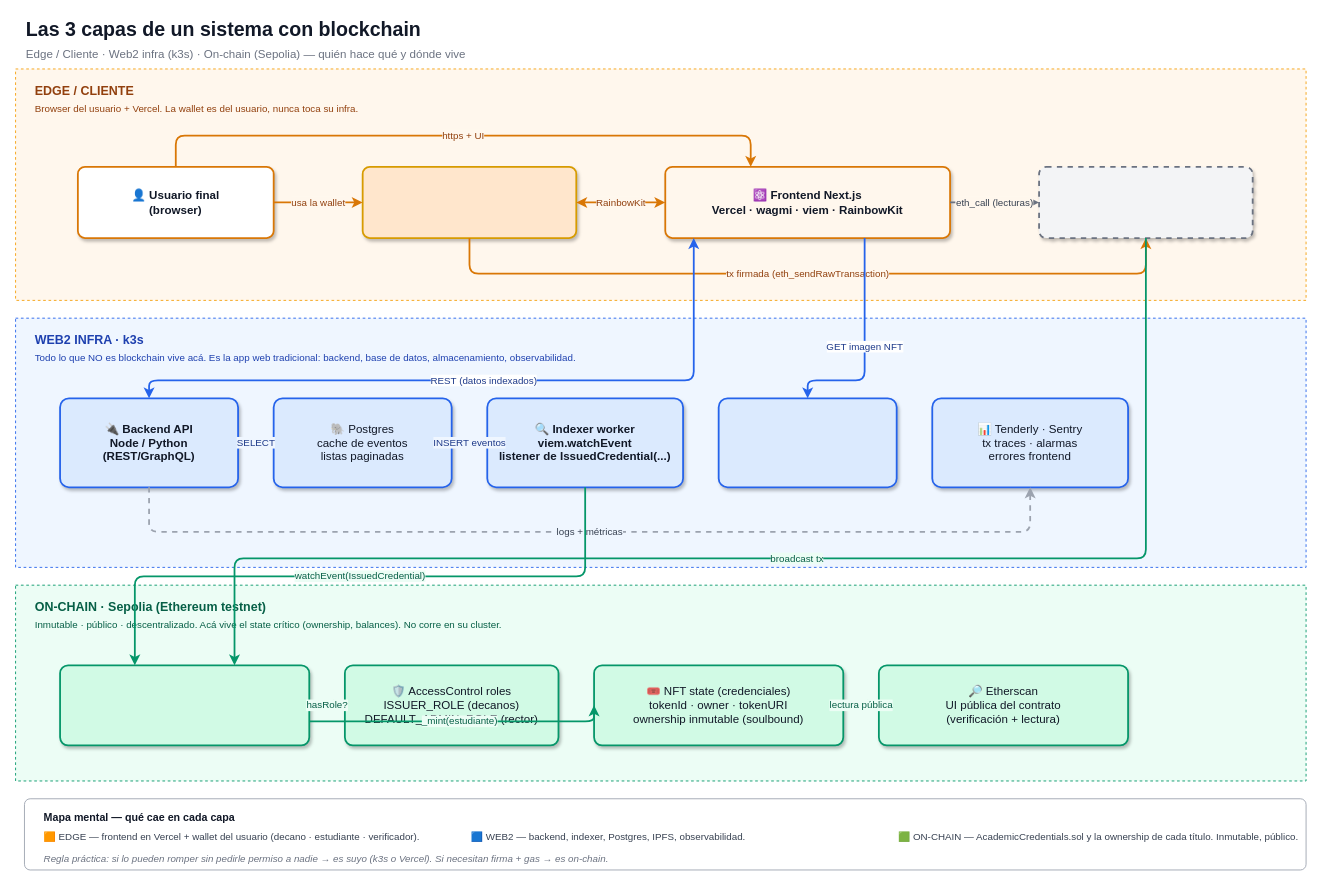
Some shapes in this 1322 by 886 pixel diagram are drawn without their labels. Each missing label, with the centre of its shape:
"🌐 RPC público (Alchemy / Infura) testnet Sepolia" belongs at point (1146, 203).
"🎓 AcademicCredentials.sol ERC-721 + AccessControl issueCredential() · revoke()" belongs at point (185, 706).
"📦 IPFS (Pinata) PDF del título foto + metadata JSON" belongs at point (808, 443).
"🦊 MetaMask (extensión browser) custodia la PK" belongs at point (470, 203).
